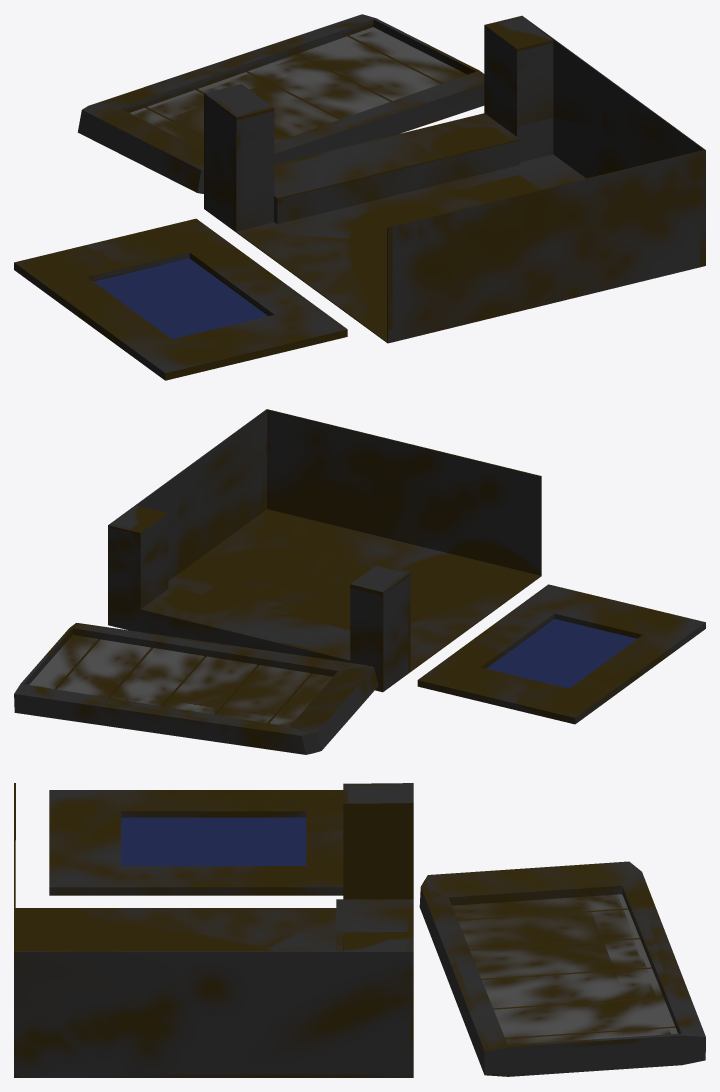
Rendered from ConveyerBuildingBroken.fbx.
3 views of the same model, one above another, from view 1: azimuth 30°, elevation 25°; view 2: azimuth 150°, elevation 25°; view 3: azimuth 270°, elevation 25° (orthographic). The views are drawn at different scales.
Visible parts, largest first — view 1: ConveyerBuildingBroken; view 2: ConveyerBuildingBroken; view 3: ConveyerBuildingBroken.
Part boxes in pixels (x1,y1,x2,y2): ConveyerBuildingBroken: [14, 14, 705, 380]; ConveyerBuildingBroken: [14, 409, 705, 754]; ConveyerBuildingBroken: [14, 783, 705, 1077].
Bounding box in the file's own units: 3.32 × 3.46 × 0.6955.
1 material, 1 textured.
